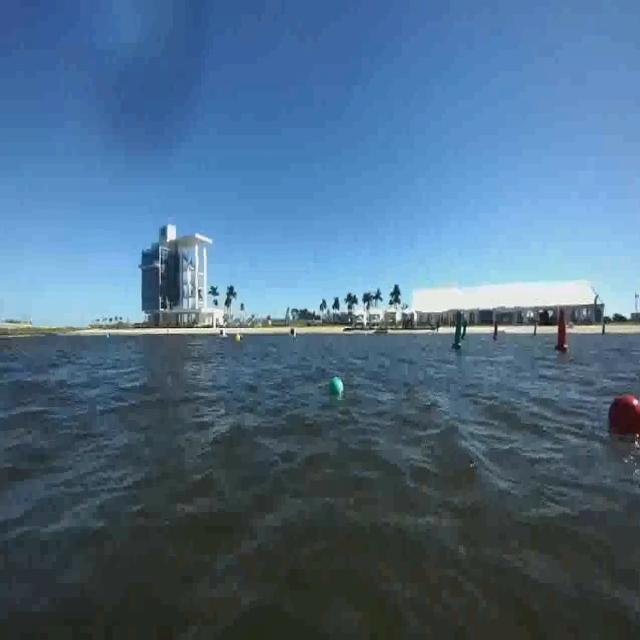green-buoy: (329, 379, 341, 395)
green-column-buoy: (450, 318, 462, 351), (492, 317, 499, 340), (461, 319, 468, 341)
red-buoy: (609, 393, 640, 435)
red-column-buoy: (554, 308, 571, 352)
